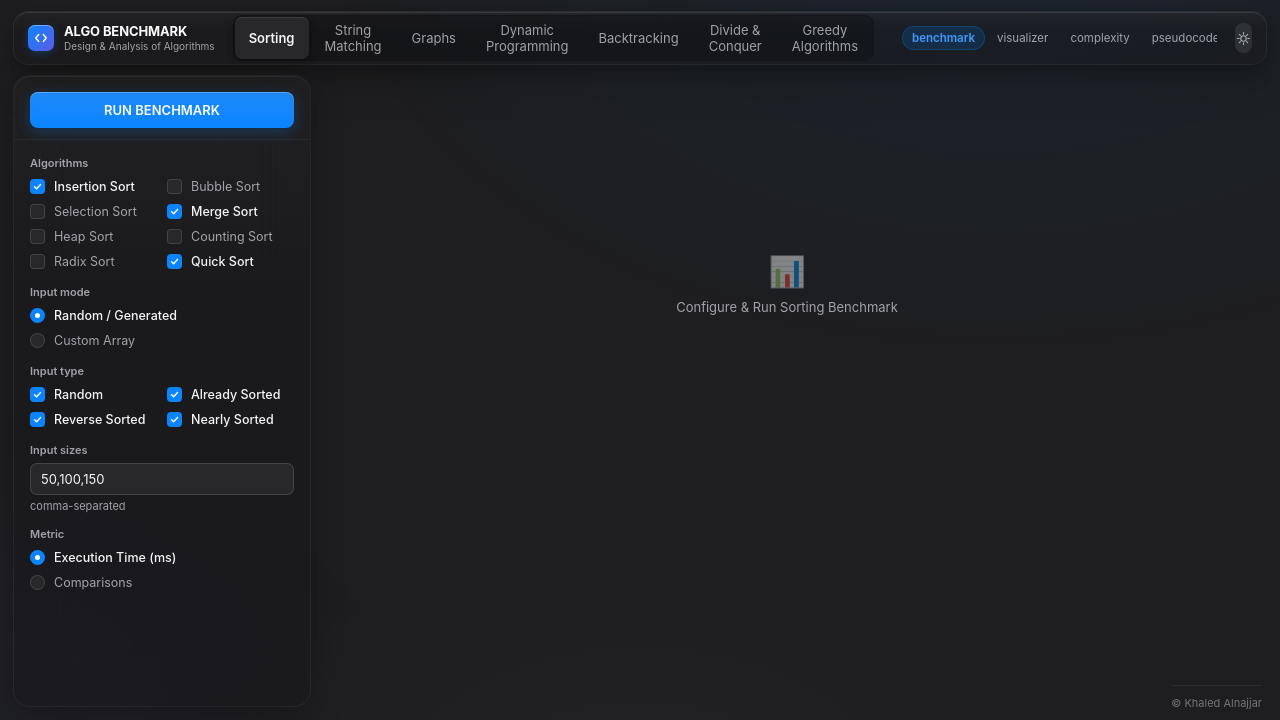
Test case: App shell › exposes the graph debugger under the Graphs domain
What coordinates should you click on to do the following:
click the button "Graphs"
I would click on:
 (434, 38)
Its box is [398,25,470,51].
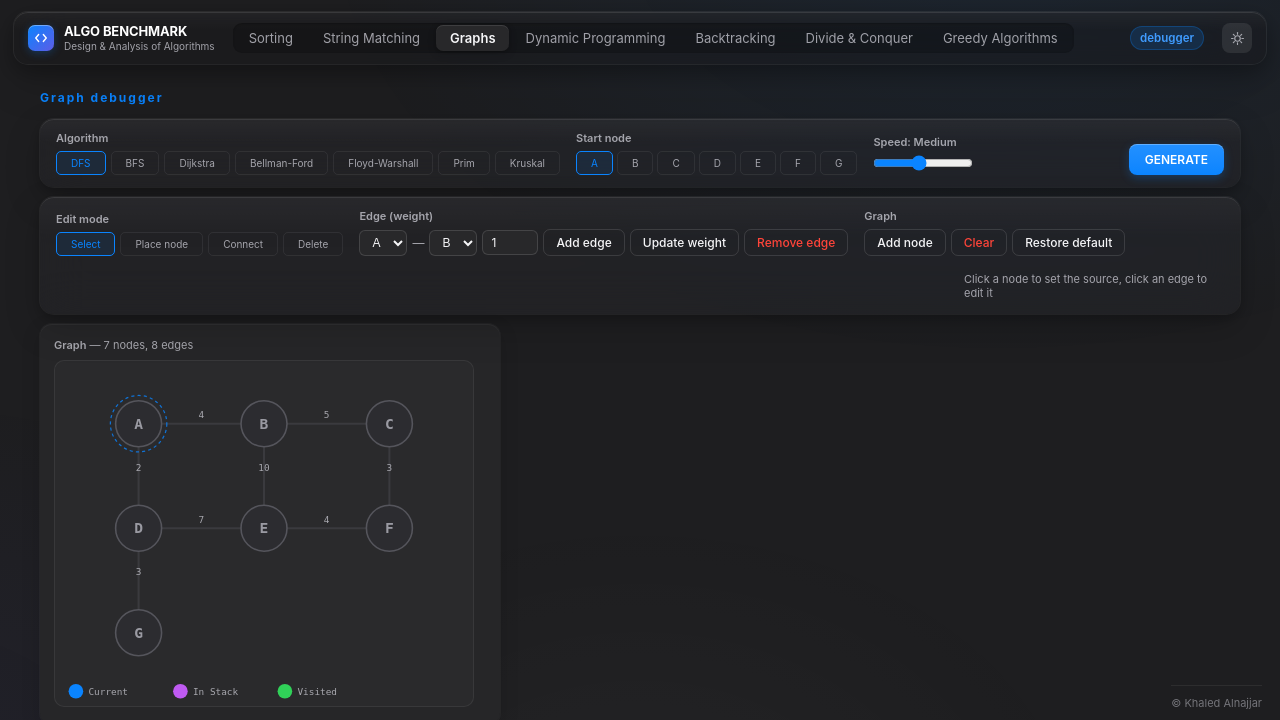
Result: the text "Graph debugger" is shown at [40,90,164,105]
What coordinates should you click on to do the following:
click the button "GENERATE"
I would click on:
 (1176, 160)
Its box is [1129,144,1224,175].
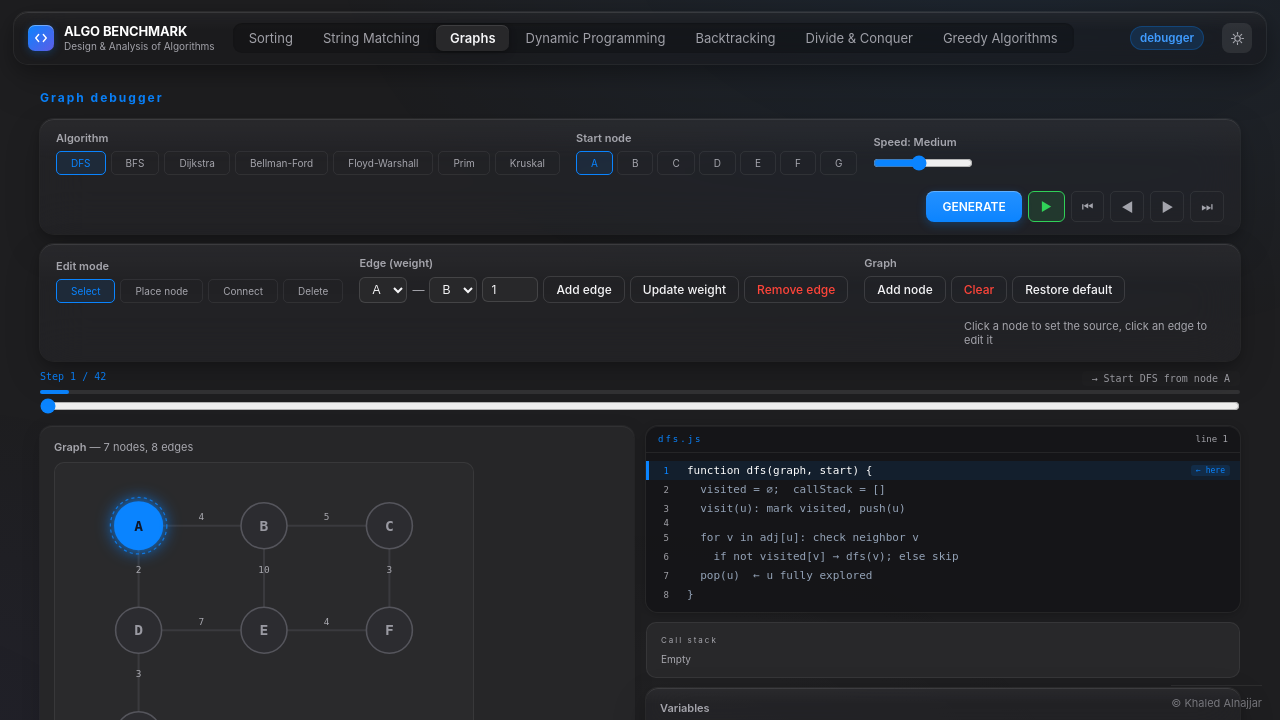
Result: the text "Step 1 / 42" is shown at [40,371,106,386]
